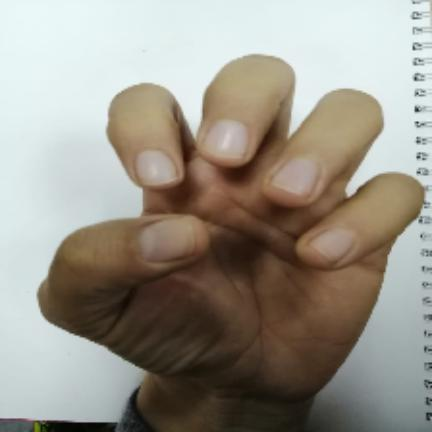Nail: (139, 217, 195, 263), (203, 120, 249, 159), (271, 158, 319, 195), (135, 149, 177, 186), (310, 228, 355, 262)
